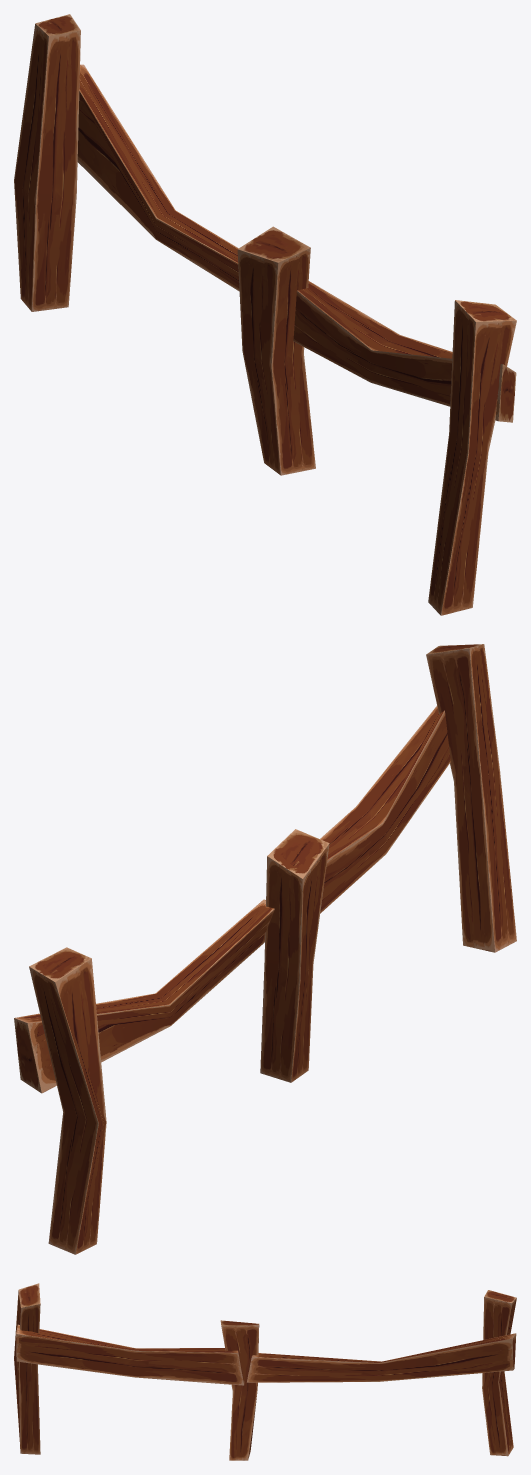
The model's file is SM_PROP_railing_v01_02.fbx.
The picture shows the model from 3 angles, top to bottom: view 1: azimuth 30°, elevation 25°; view 2: azimuth 150°, elevation 25°; view 3: azimuth 270°, elevation 25°; orthographic projection. The views are drawn at different scales.
Parts seen in each view (by area): view 1: SM_PROP_railing_v01_02; view 2: SM_PROP_railing_v01_02; view 3: SM_PROP_railing_v01_02.
Part boxes in pixels (x1,y1,x2,y2): SM_PROP_railing_v01_02: (14,14,516,615); SM_PROP_railing_v01_02: (14,644,516,1254); SM_PROP_railing_v01_02: (14,1283,516,1460).
Size of the model in its own units: 33.6 by 116 by 310.
